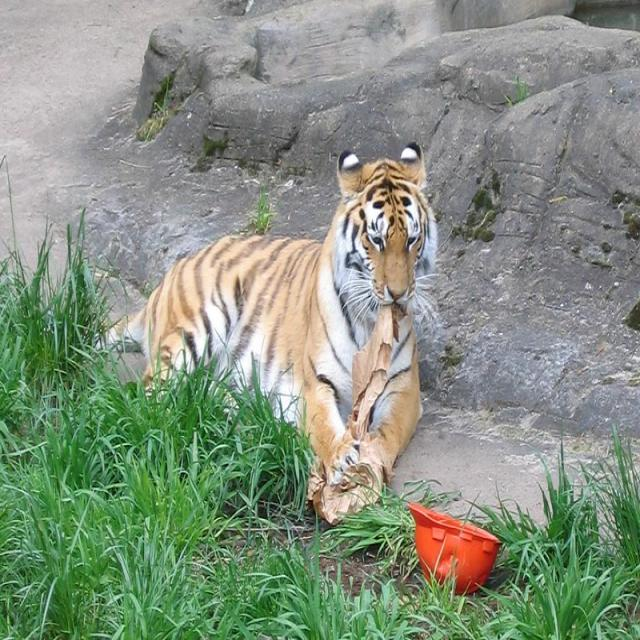Tiger: (90, 137, 440, 480)
